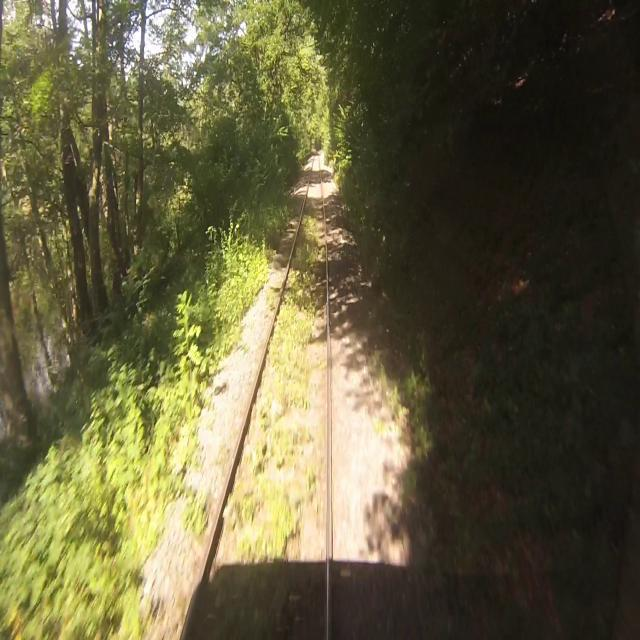Plant: (240, 202, 319, 477), (213, 482, 292, 639), (225, 480, 255, 532), (247, 254, 271, 309), (125, 596, 155, 639), (183, 490, 207, 532), (231, 324, 249, 354), (215, 444, 231, 475), (306, 463, 316, 503), (265, 282, 280, 308), (193, 446, 205, 475), (372, 415, 388, 433), (207, 417, 216, 433)
